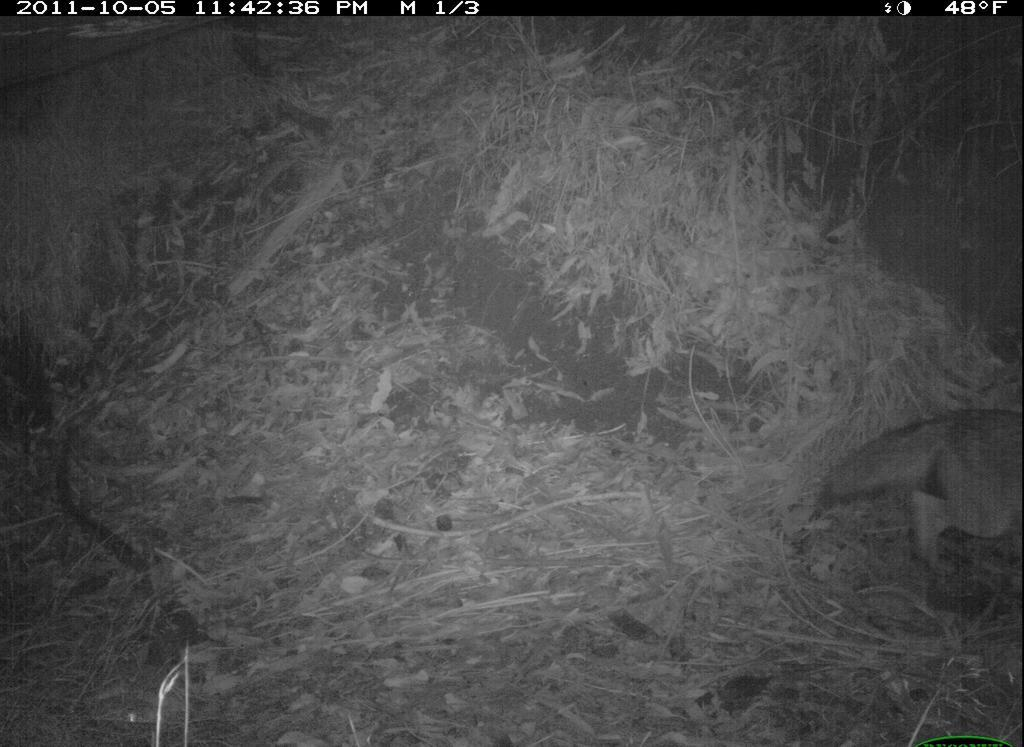coyote: (798, 379, 1021, 609)
